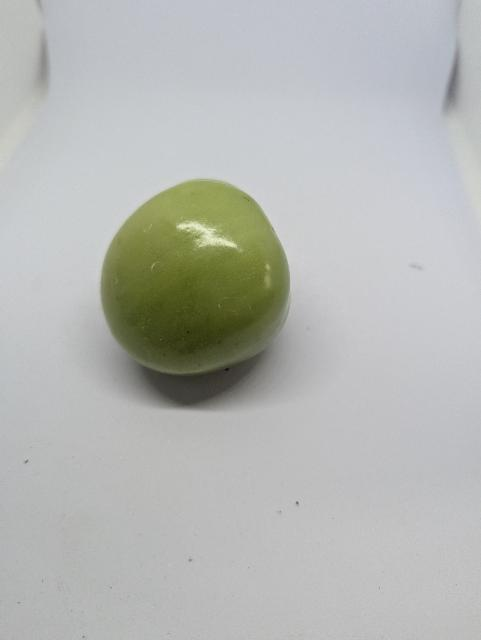green: (85, 166, 311, 398)
